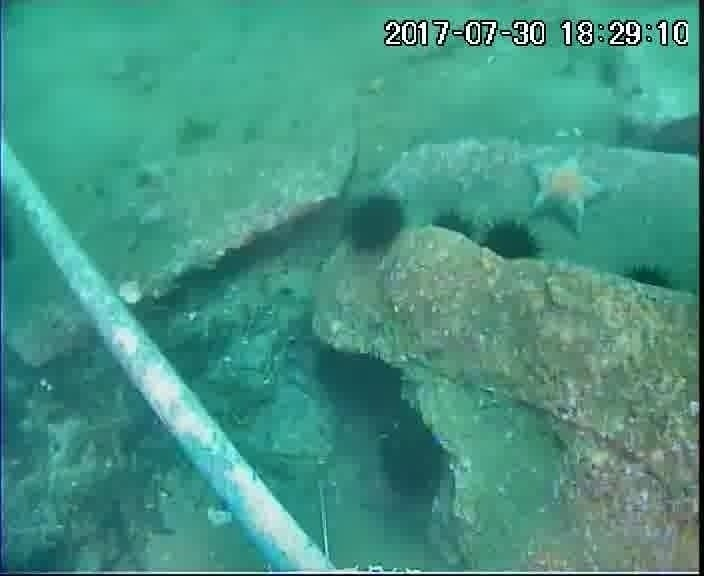echinus: (373, 410, 454, 504), (314, 345, 410, 419), (340, 191, 409, 259), (478, 217, 545, 268), (427, 205, 484, 255), (618, 259, 679, 303)
starfish: (523, 150, 607, 234)
